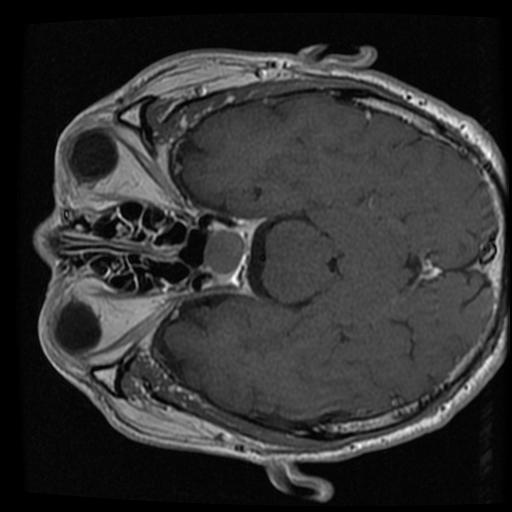pituitary tumour: (201, 229, 246, 277)
